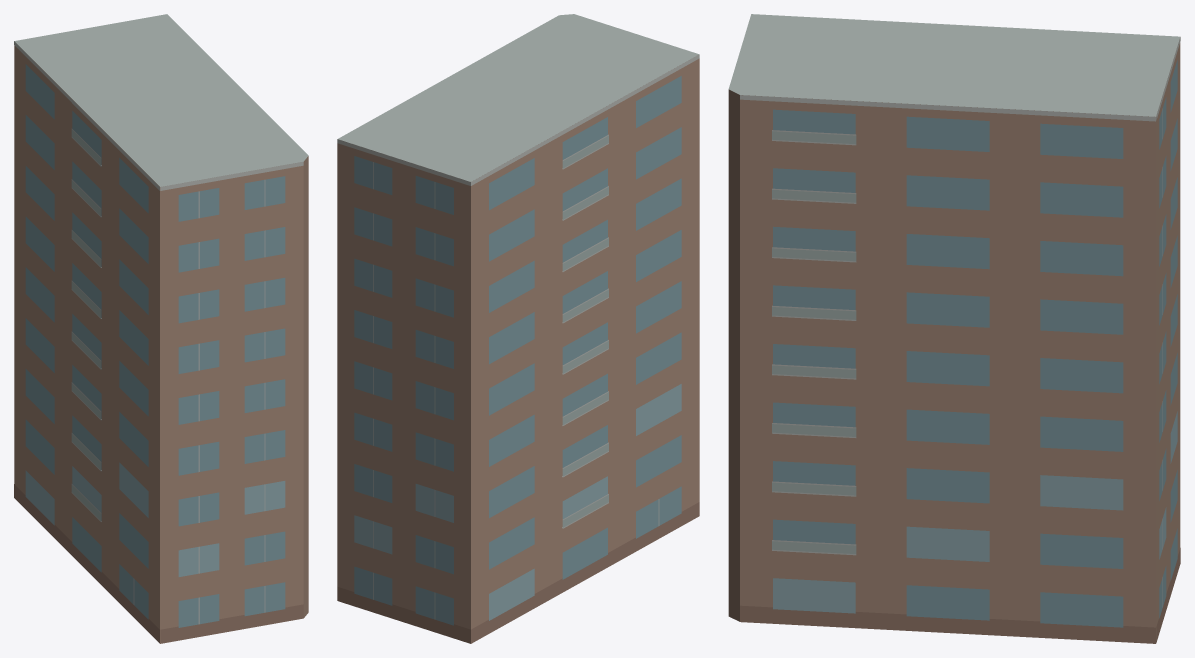
Rendered from survey-upis-32737120.glb.
3 renders of one model, left to right at view 1: azimuth 30°, elevation 25°; view 2: azimuth 150°, elevation 25°; view 3: azimuth 270°, elevation 25°, orthographic. The views are drawn at different scales.
Parts seen in each view (by area): view 1: survey-upis-32737120.tmp; view 2: survey-upis-32737120.tmp; view 3: survey-upis-32737120.tmp.
Boxes of the visible parts, x1=… form: survey-upis-32737120.tmp: x1=14, y1=14, x2=308, y2=643; survey-upis-32737120.tmp: x1=337, y1=14, x2=699, y2=643; survey-upis-32737120.tmp: x1=728, y1=14, x2=1180, y2=643.
Bounding box in the file's own units: 11.5 × 27.45 × 21.34.
